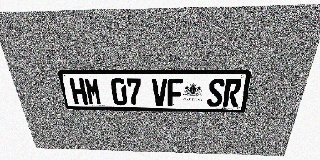0: (110, 78, 128, 105)
7: (126, 78, 142, 106)
F: (168, 78, 183, 106)
H: (69, 78, 88, 105)
M: (84, 78, 102, 105)
R: (222, 79, 242, 107)
S: (207, 78, 225, 107)
V: (152, 78, 167, 106)
